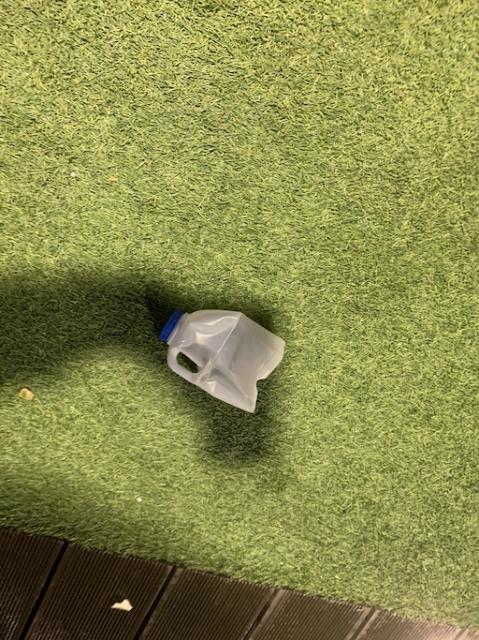plastic: (158, 308, 284, 410)
